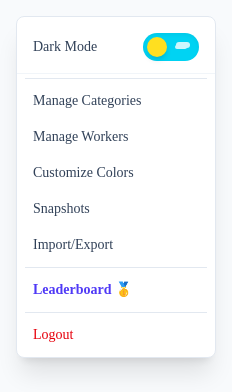
Test: AppSettingsMenu Component › Dark Mode Toggle › toggles the dark mode atom when the switch is clicked
// Toggle ON
What coordinates should you click on to do the following:
click the checkbox named "Toggle Dark Mode"
I would click on:
 (171, 47)
Its box is top-left (143, 33), bottom-right (199, 61).
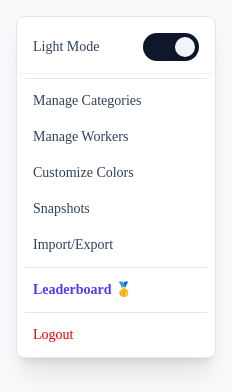
Check: the text "Light Mode" is shown, box top-left (33, 37), bottom-right (100, 57)
// Toggle OFF
What coordinates should you click on to do the following:
click the checkbox named "Toggle Dark Mode"
I would click on:
 (171, 47)
Its box is top-left (143, 33), bottom-right (199, 61).
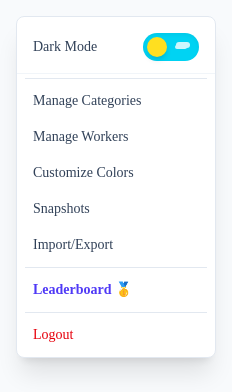
Check: the text "Dark Mode" is shown, box top-left (33, 37), bottom-right (97, 57)
